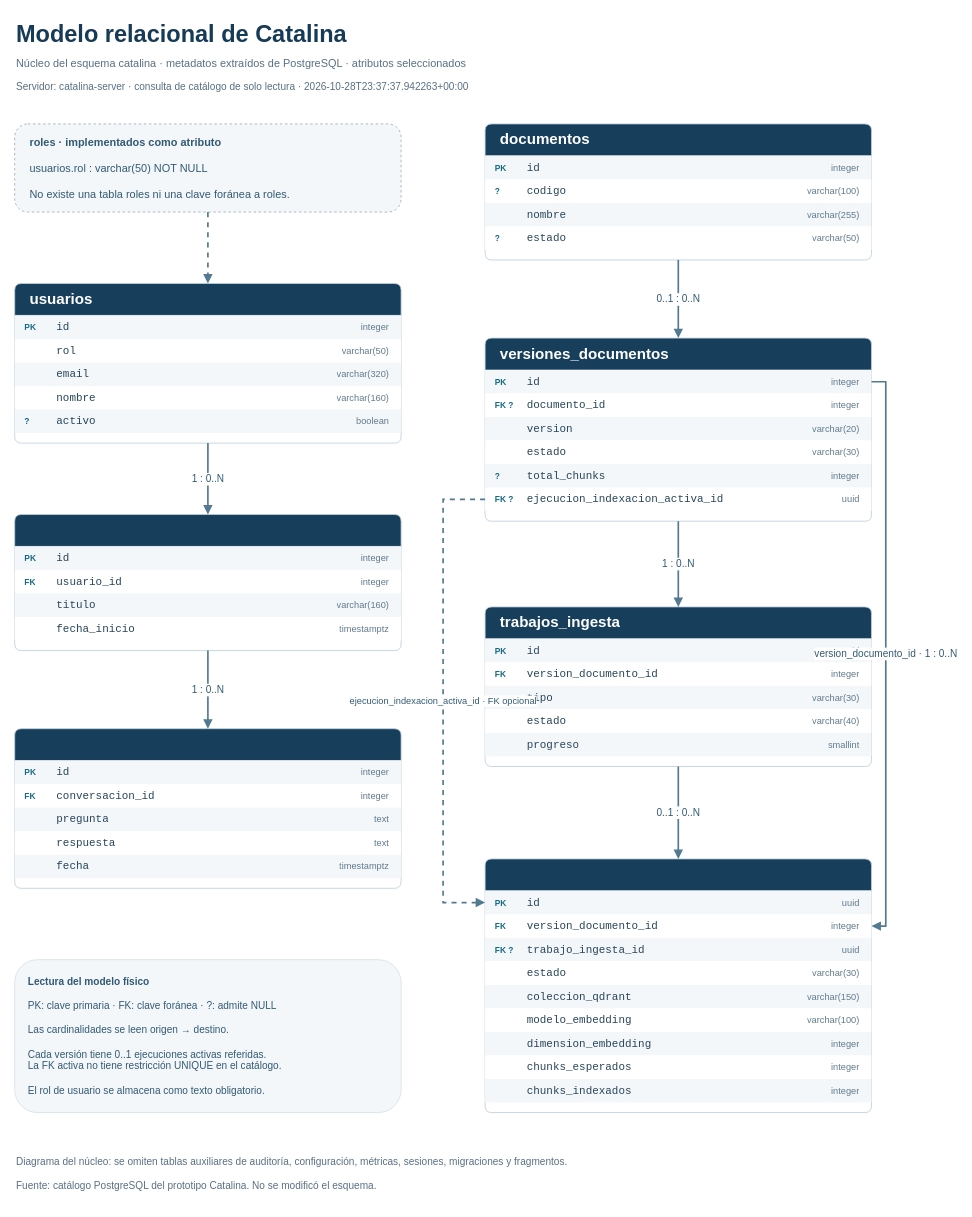
Some shapes in this 972 by 1217 pixel diagram are drawn without their labels. Here are the shapes that lost their labels. From the top down, the box of each, then its label:
(14, 514, 401, 651): conversaciones
(14, 728, 401, 888): mensajes
(484, 858, 872, 1113): ejecuciones_indexacion
